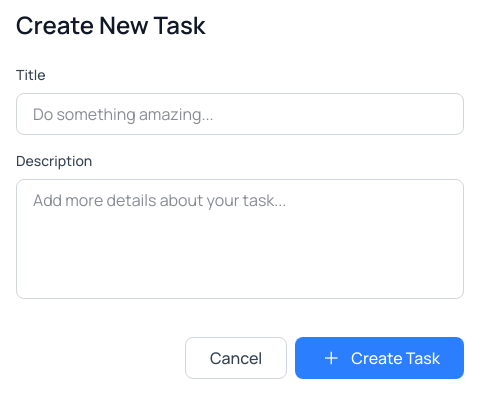
Test: NewTask Component › field validation › shows error for description less than 10 characters
Step 1. Type "short" into the text box named "description" → (240, 239), box [16,179,464,299]
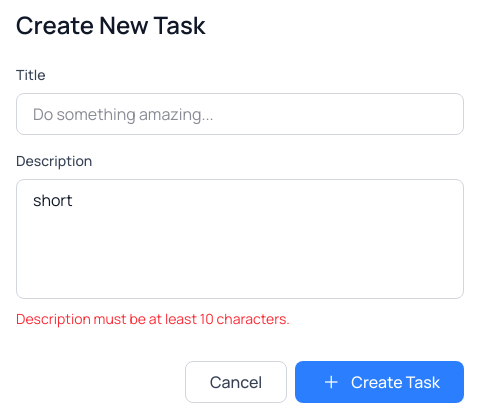
Result: the text "at least 10 characters" is shown at [16,309,290,328]
